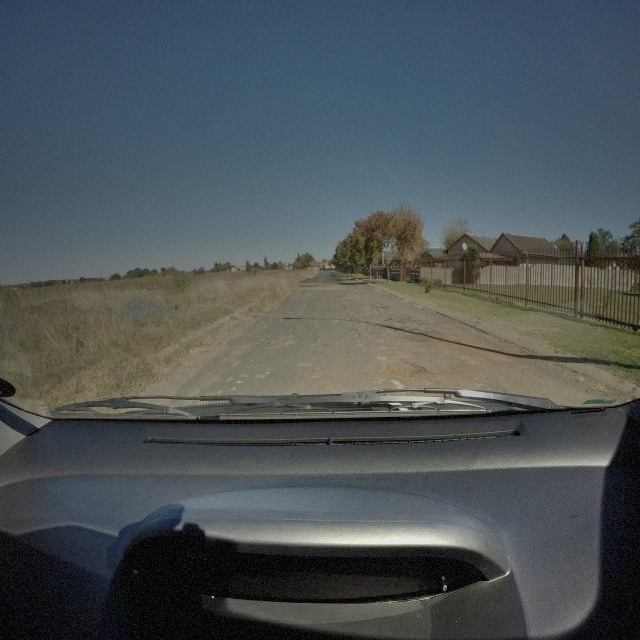pothole: (380, 359, 429, 379)
